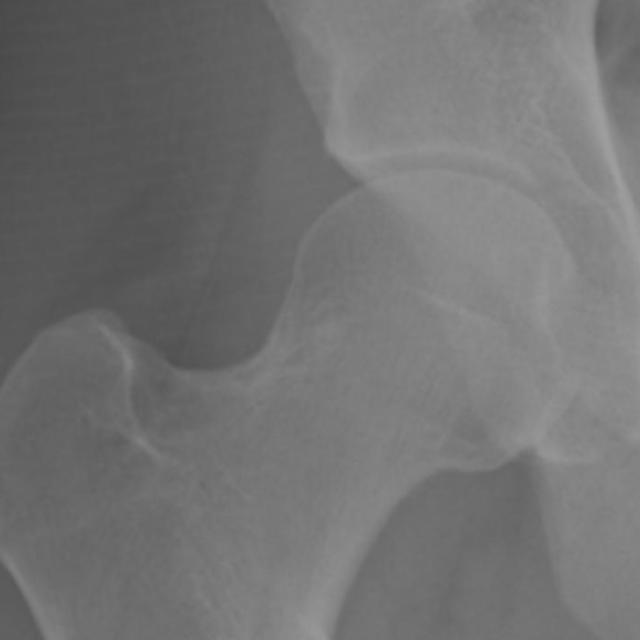Fitted_femural_head: (310, 171, 432, 310)
